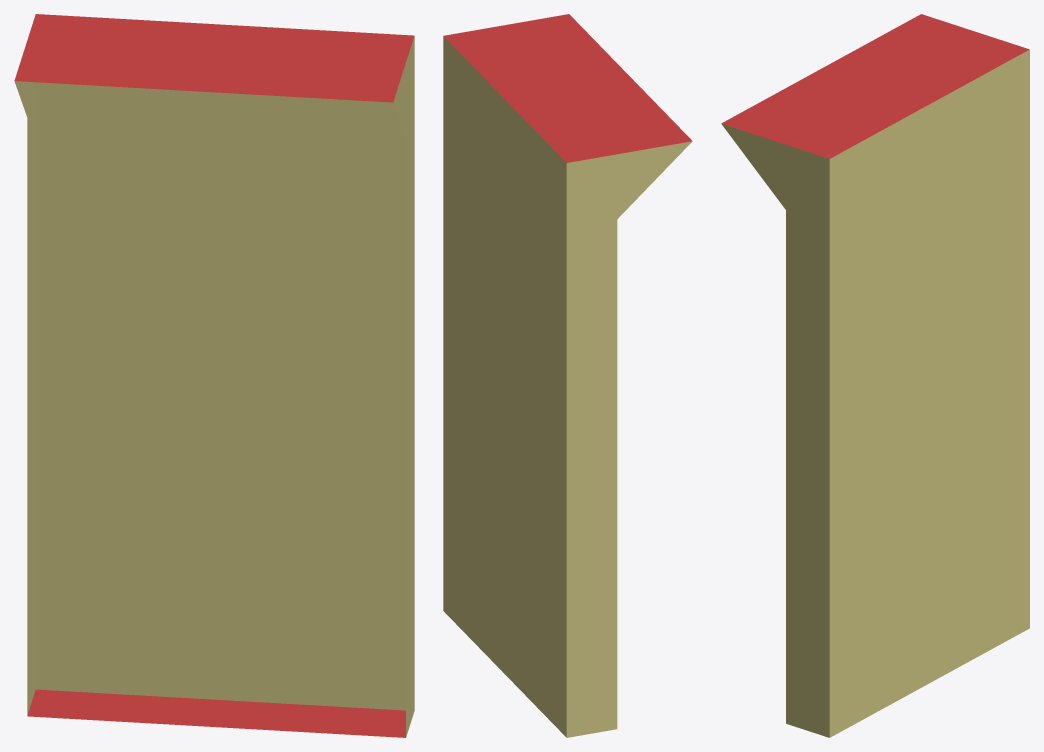
3 views of the same model, side by side, from view 1: azimuth 30°, elevation 25°; view 2: azimuth 150°, elevation 25°; view 3: azimuth 270°, elevation 25° (orthographic). The views are drawn at different scales.
Visible parts, largest first — view 1: group_4, group_3, group_5; view 2: group_4, group_3; view 3: group_4, group_3.
Part boxes in pixels (x1,y1,x2,y2): group_4: (14,36,414,737); group_3: (14,14,414,102); group_5: (27,689,405,737); group_4: (443,36,692,737); group_3: (443,14,692,162); group_4: (721,49,1029,737); group_3: (721,14,1029,158).
Size of the model in its own units: 8.95 by 8.05 by 16.66.
